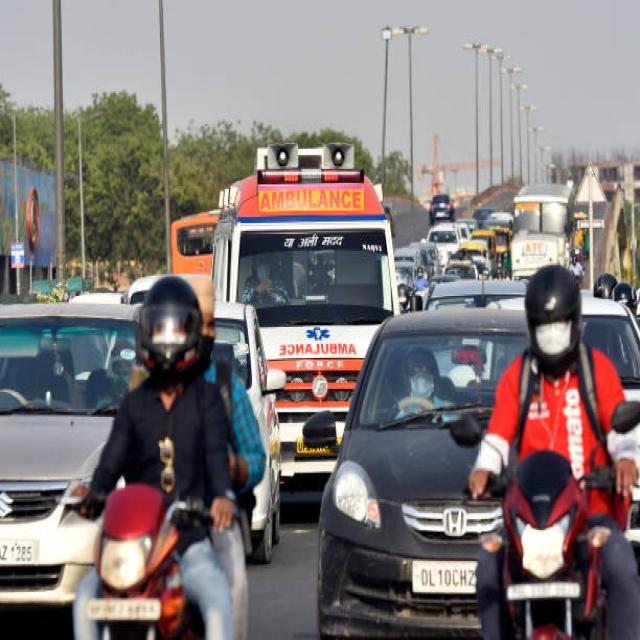ambulance: (234, 189, 372, 227), (273, 322, 365, 368), (257, 158, 368, 192)
